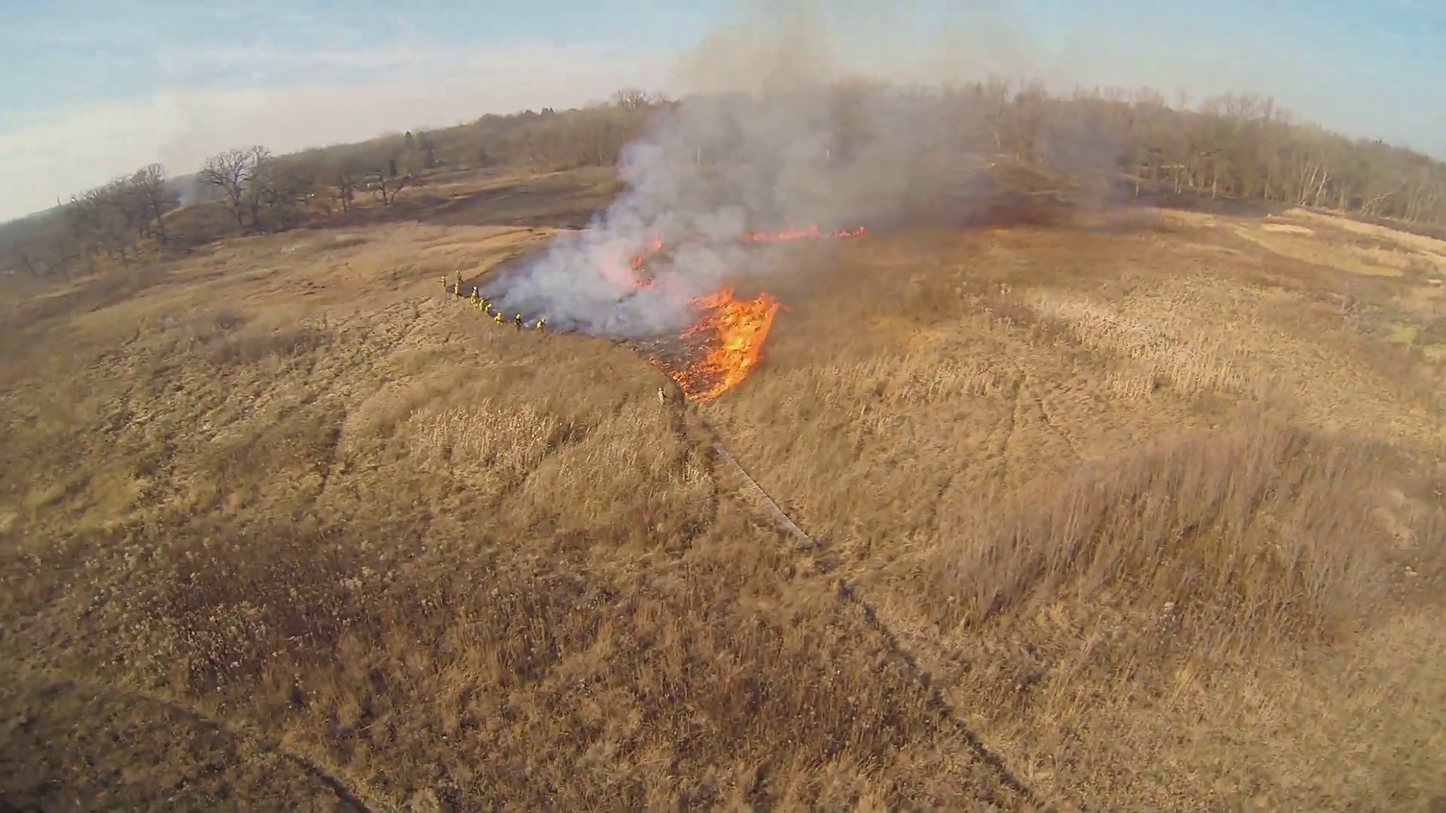forest_fire: (667, 286, 784, 401), (742, 225, 867, 242)
